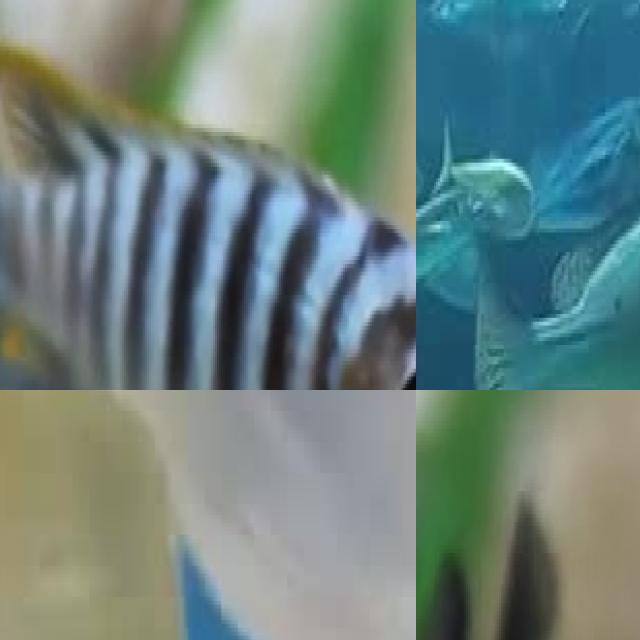fish: (0, 0, 416, 390), (0, 390, 242, 640)
